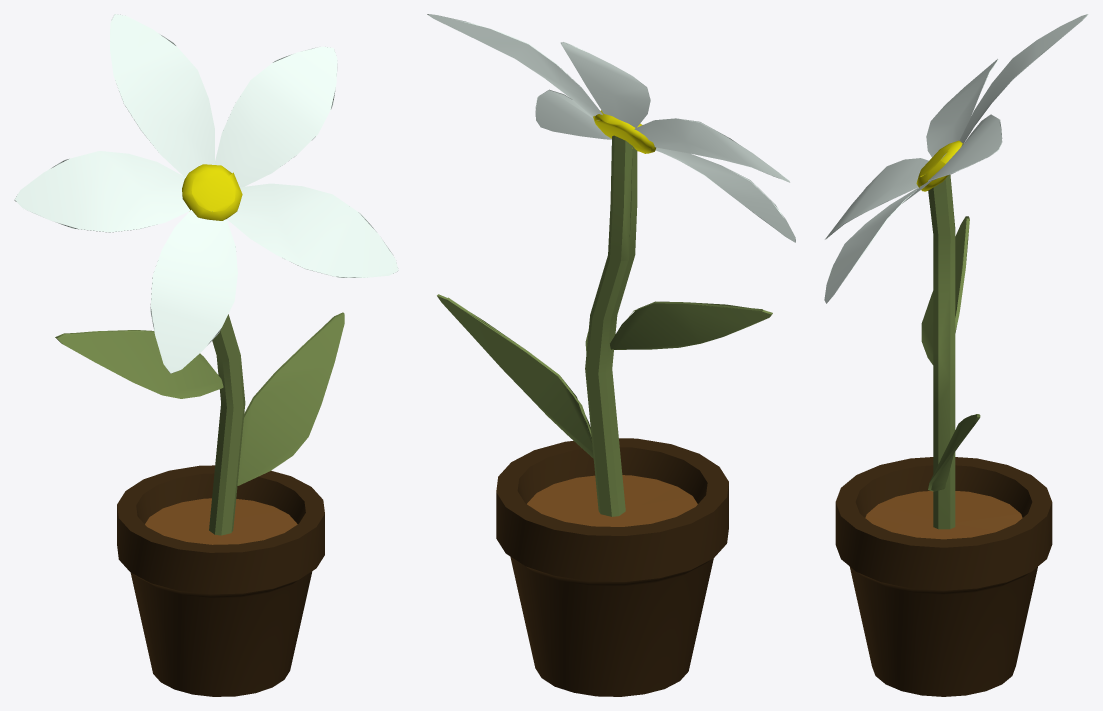
File: stylised_flower1.glb
3 renders of one model, left to right at view 1: azimuth 30°, elevation 25°; view 2: azimuth 150°, elevation 25°; view 3: azimuth 270°, elevation 25°, orthographic. The views are drawn at different scales.
Visible parts, largest first — view 1: polySurface22; view 2: polySurface22; view 3: polySurface22.
Part boxes in pixels (x1,y1,x2,y2): polySurface22: [14, 14, 398, 696]; polySurface22: [427, 14, 795, 696]; polySurface22: [824, 14, 1088, 696].
Size of the model in its own units: 88.86 by 161 by 61.02.
